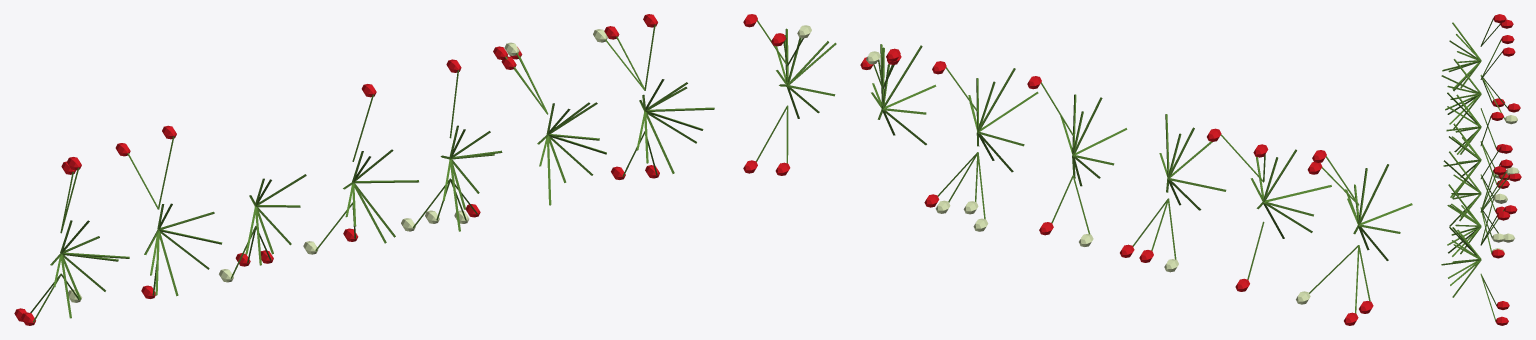
Rendered from r1c0_rest.obj.
3 views of the same model, side by side, from view 1: azimuth 30°, elevation 25°; view 2: azimuth 150°, elevation 25°; view 3: azimuth 270°, elevation 25° (orthographic). The views are drawn at different scales.
Parts seen in each view (by area): view 1: r1c0_rest; view 2: r1c0_rest; view 3: r1c0_rest.
Part boxes in pixels (x1,y1,x2,y2): r1c0_rest: (14,14,714,325); r1c0_rest: (743,14,1412,325); r1c0_rest: (1441,14,1521,325).
Size of the model in its own units: 1.69 by 0.4032 by 0.257.
